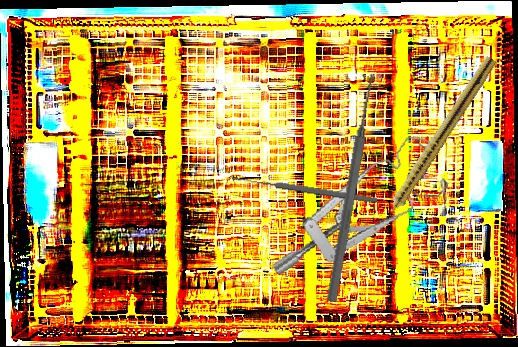Handpiece: (375, 53, 498, 228)
Pusher: (324, 71, 380, 304)
Speculum: (252, 129, 460, 279)
Surgical Spoon: (230, 173, 379, 205)
